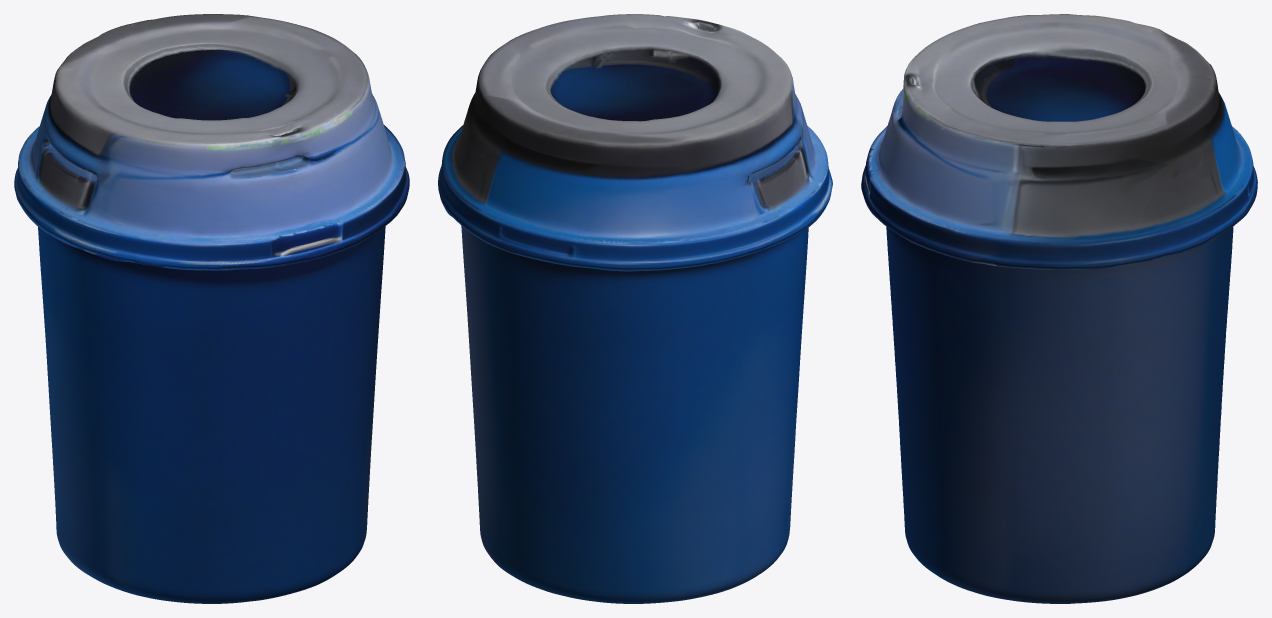
File: Meshy_Model_20250604_210938.glb
3 views of the same model, side by side, from view 1: azimuth 30°, elevation 25°; view 2: azimuth 150°, elevation 25°; view 3: azimuth 270°, elevation 25° (orthographic).
Bounding box in the file's own units: 1.54 × 2 × 1.55.
1 material, 1 textured.
